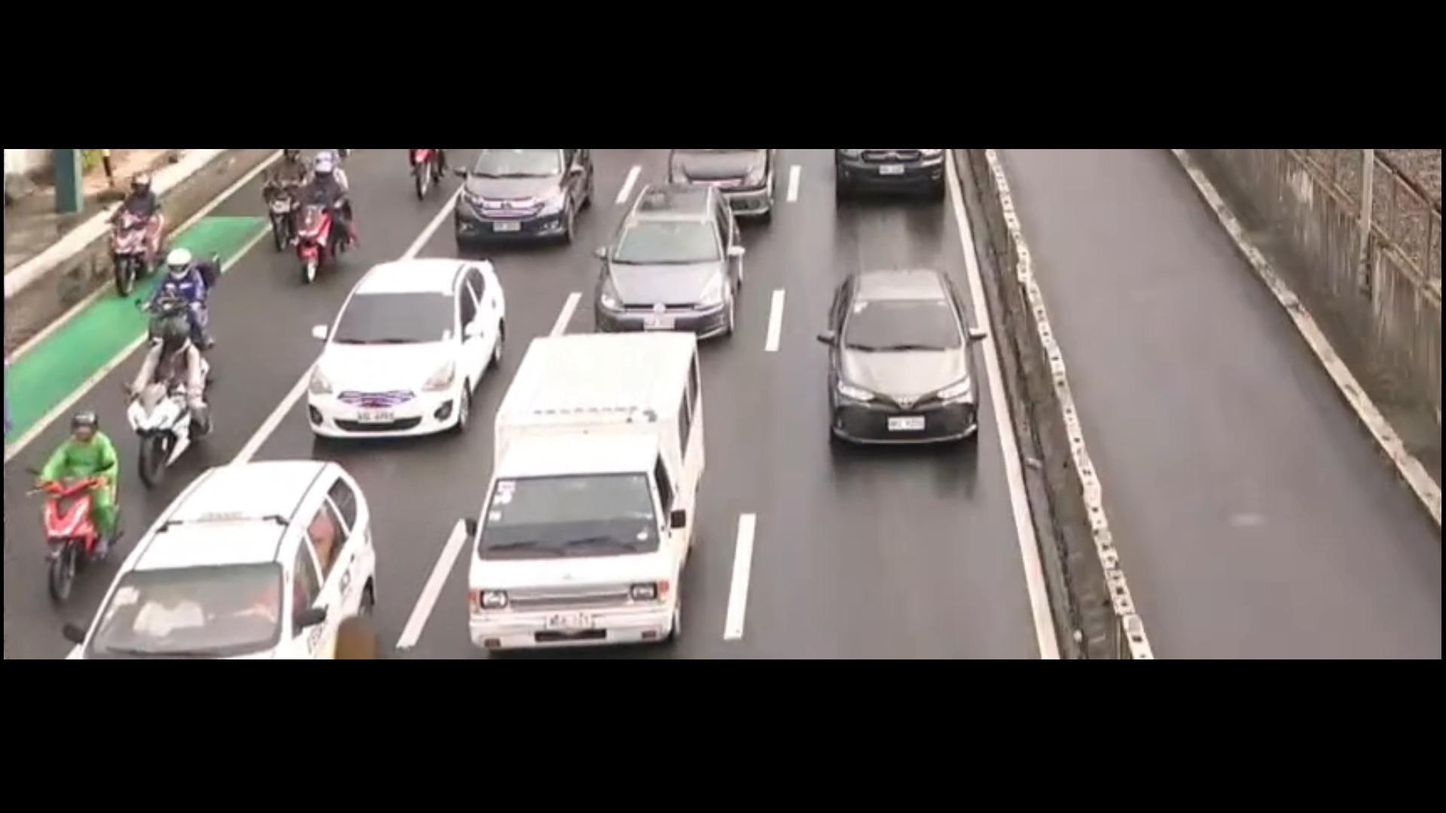Motorcycle: (28, 396, 138, 605), (109, 313, 215, 506), (287, 142, 369, 289), (141, 237, 230, 354), (95, 170, 177, 291), (260, 158, 311, 243), (393, 149, 458, 211)
Multicab: (448, 320, 727, 655)
SUV: (60, 452, 394, 661), (588, 181, 750, 340), (456, 151, 593, 251)
Sedan: (287, 232, 531, 455), (817, 251, 985, 458)
